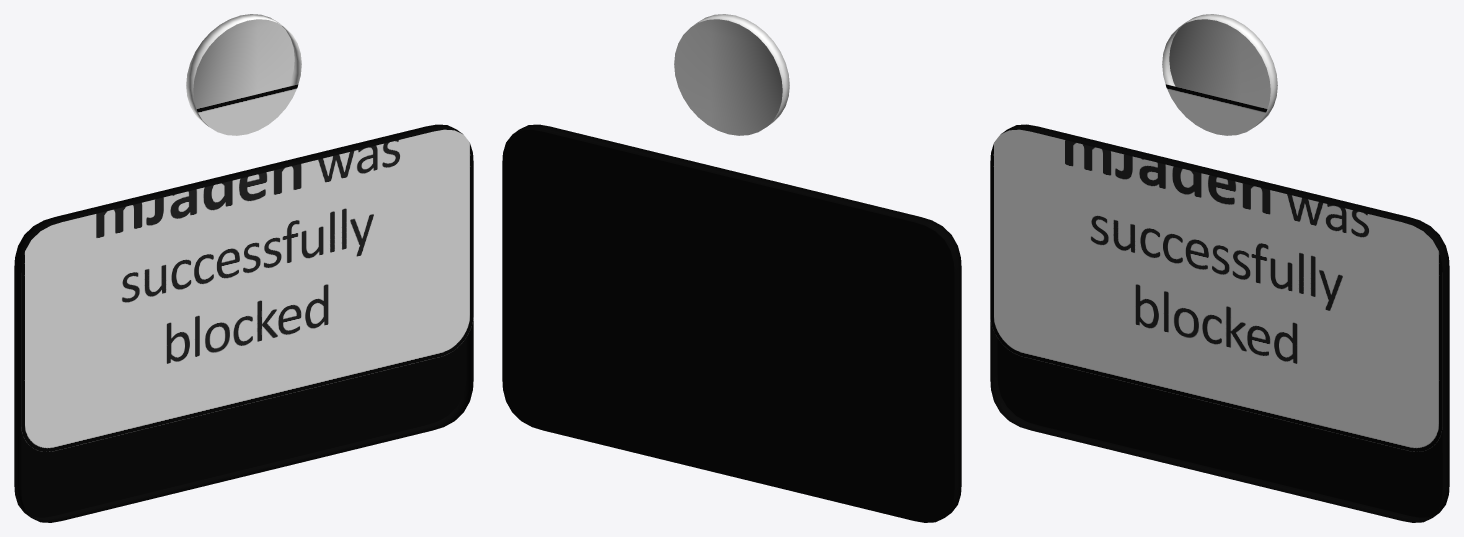
File: OLDEp5_BlockNotification-B.fbx
3 renders of one model, left to right at view 1: azimuth 30°, elevation 25°; view 2: azimuth 150°, elevation 25°; view 3: azimuth 330°, elevation 25°, orthographic.
Parts seen in each view (by area): view 1: BlockNotifications-B; view 2: BlockNotifications-B; view 3: BlockNotifications-B.
Boxes of the visible parts, bbox=[...] form: BlockNotifications-B: bbox=[14, 14, 473, 522]; BlockNotifications-B: bbox=[502, 14, 961, 522]; BlockNotifications-B: bbox=[990, 14, 1449, 522].
Size of the model in its own units: 833 by 801 by 22.64.
